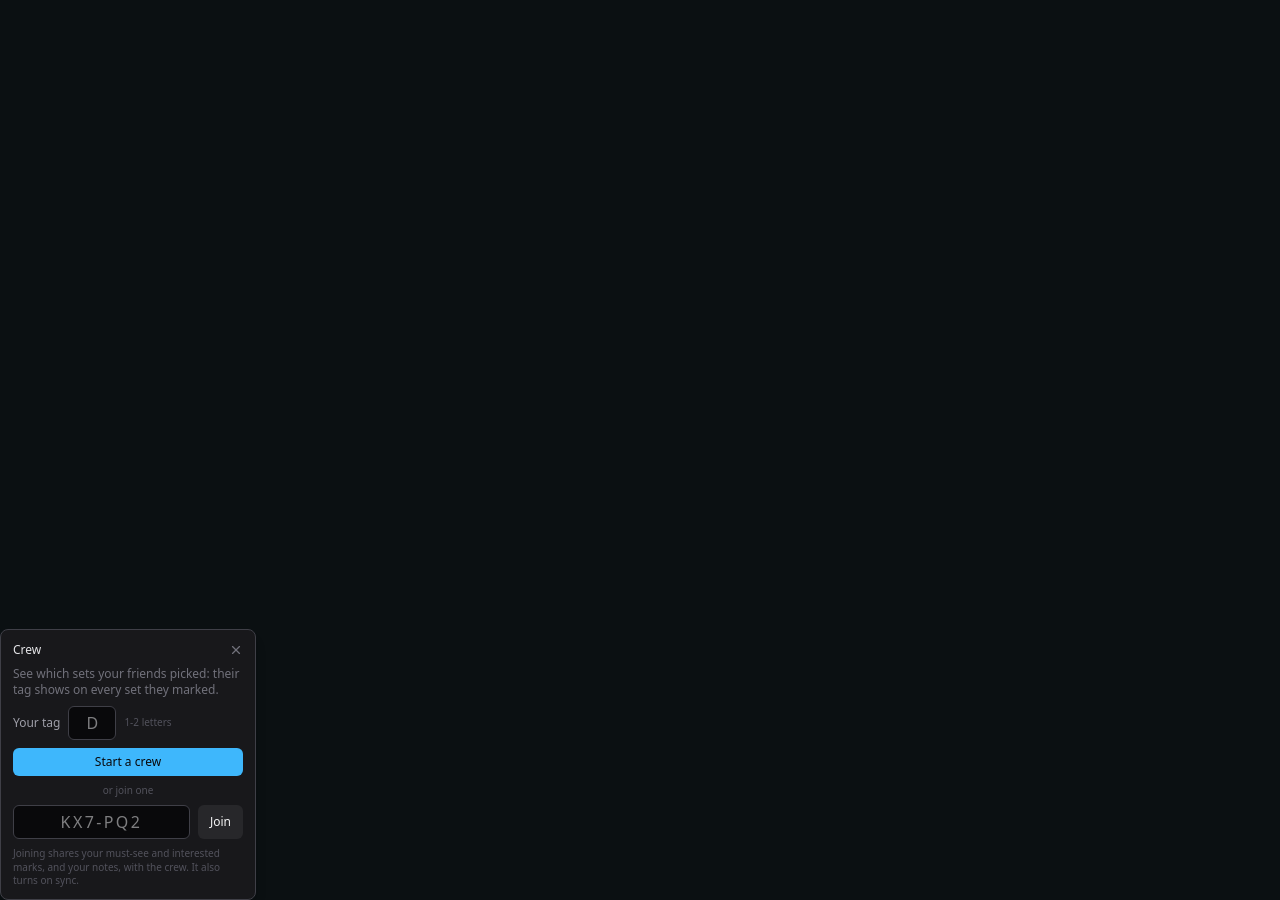
Test: CrewPanel, not in a crew › shows the invalid error in words
The width and height of the screenshot is (1280, 900).
(page scrolled)
In the field labelled "Your tag": (92, 723) [68,706,116,740], type "Zs"
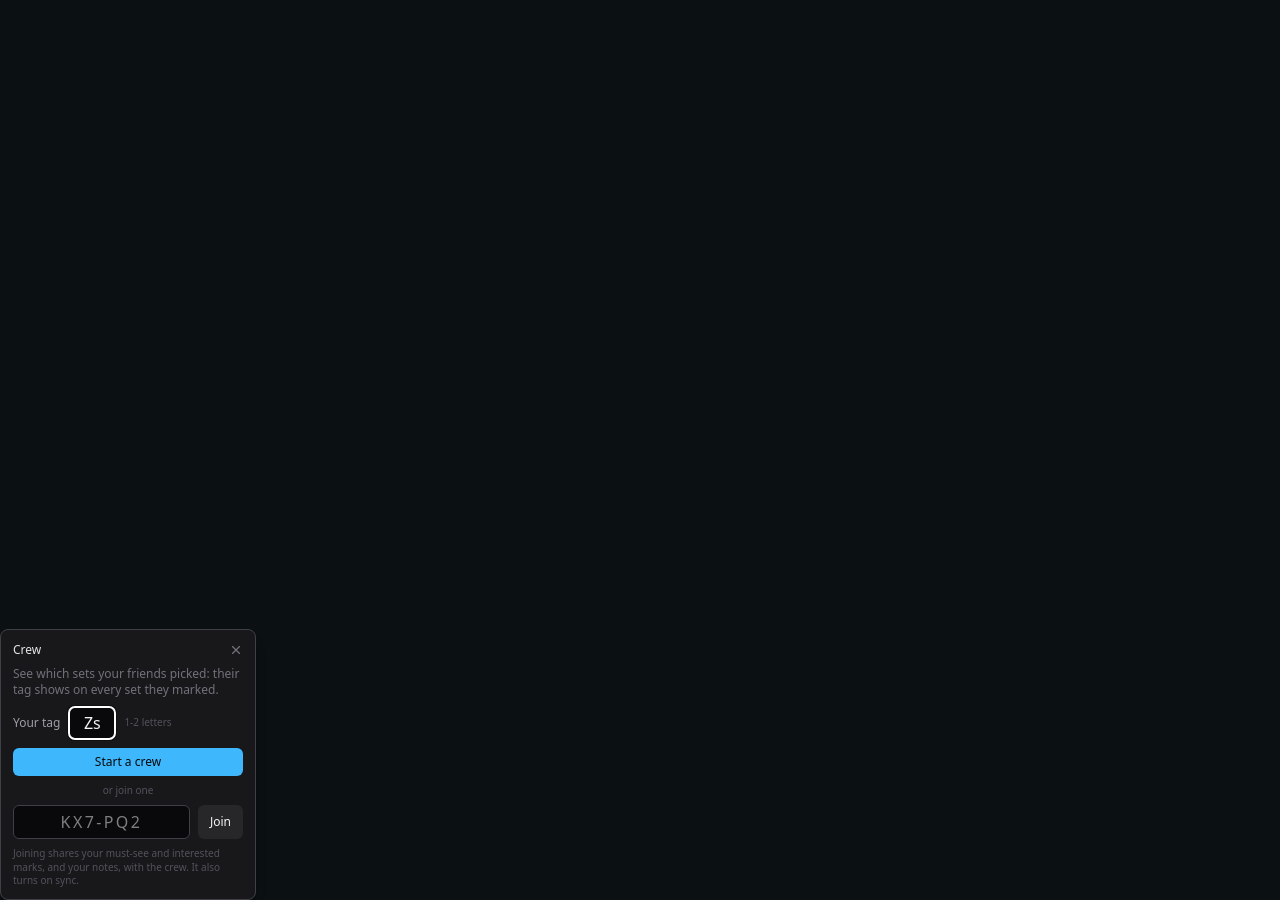
In the field named "Crew code": (101, 822) [13,805,190,839], type "KX7PQ2"
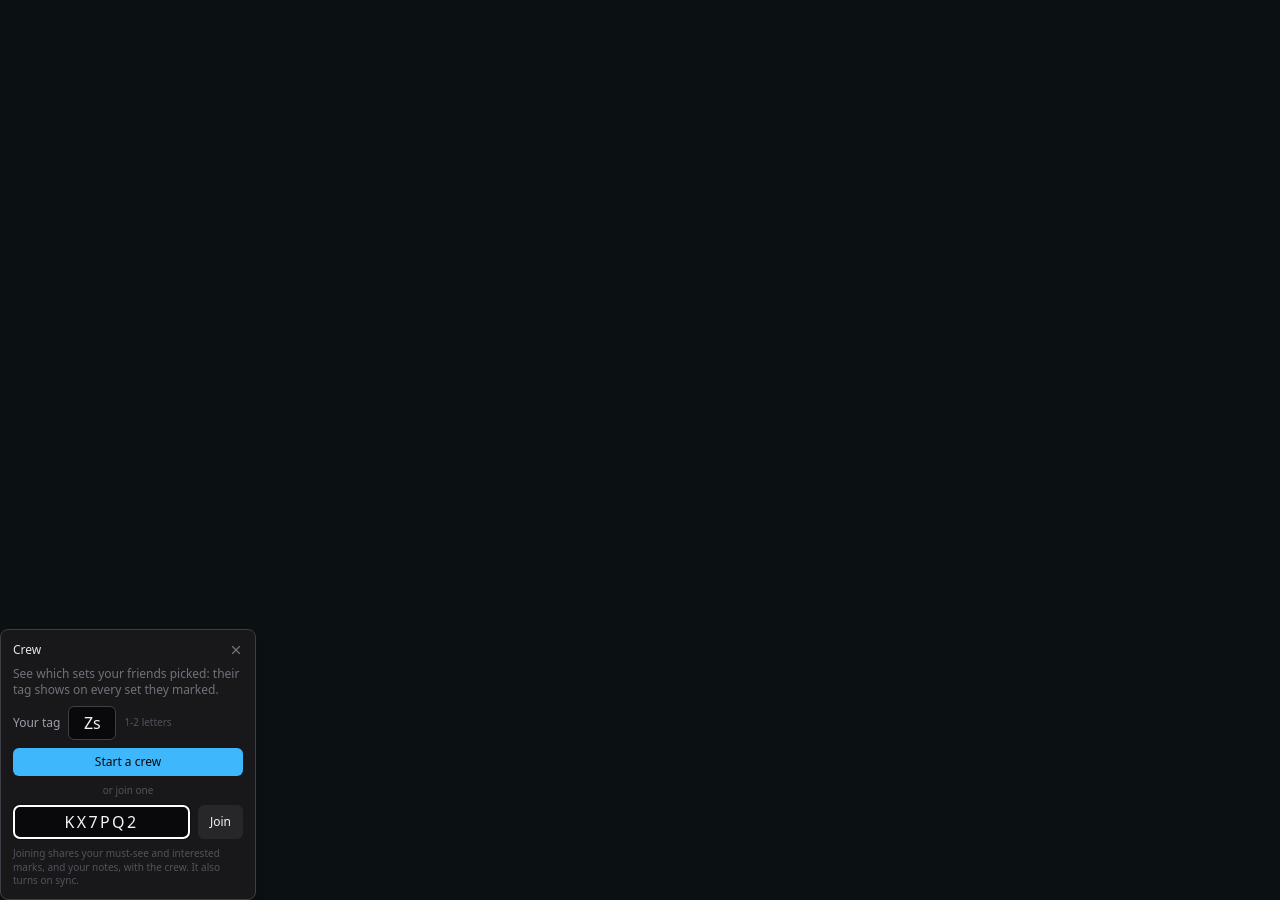
Click the button "Join": (220, 822) [198,805,243,839]
(page scrolled)
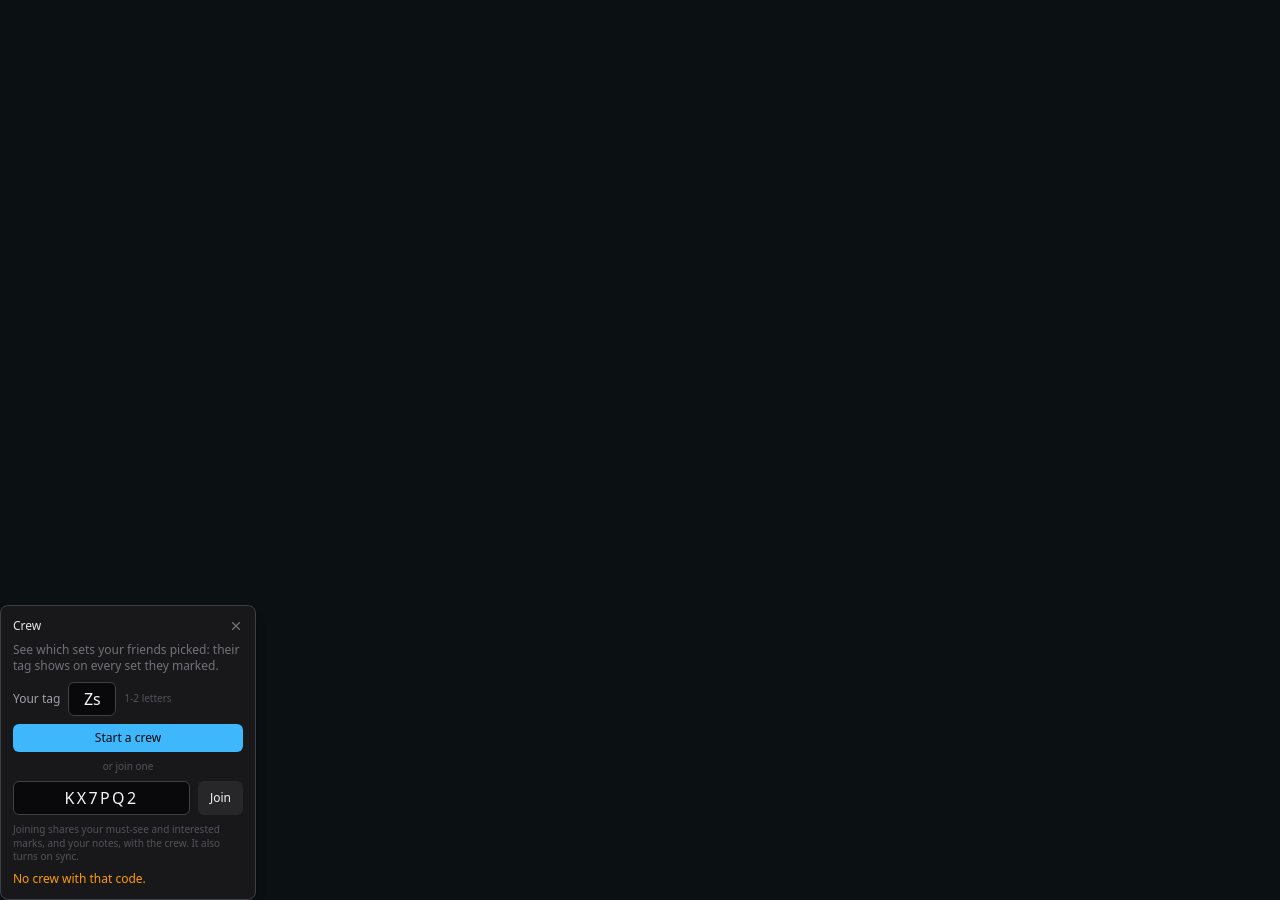
Expected: the message reads "No crew with that code.", [13,870,146,887]
